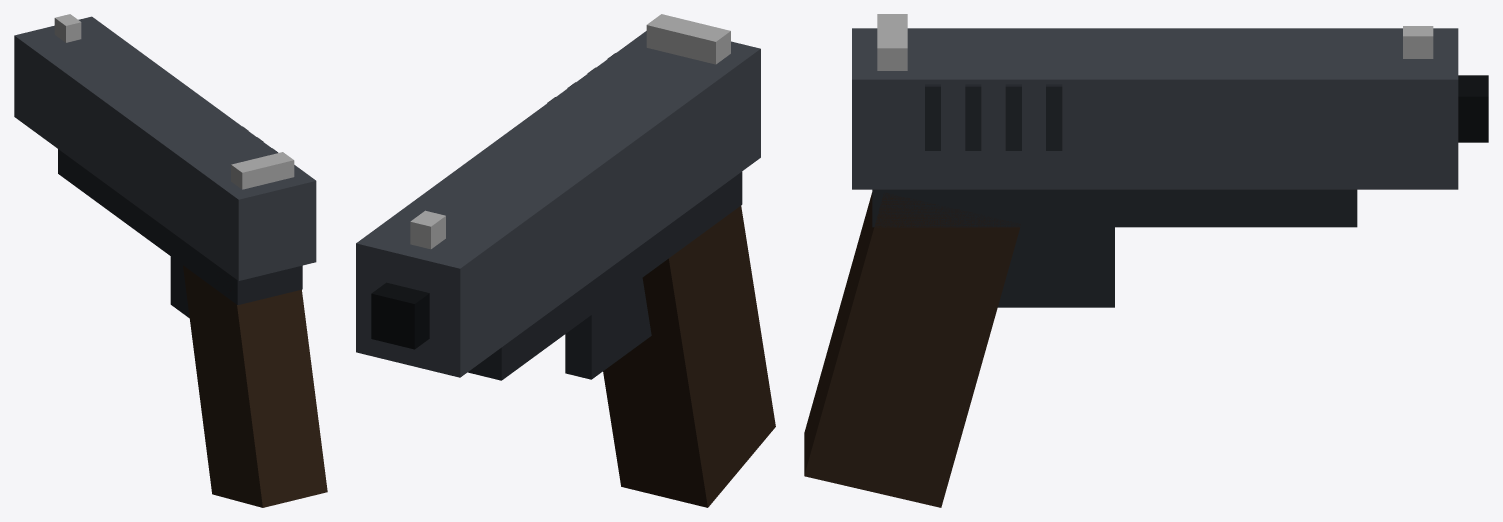
File: pistol.glb
3 renders of one model, left to right at view 1: azimuth 30°, elevation 25°; view 2: azimuth 150°, elevation 25°; view 3: azimuth 270°, elevation 25°, orthographic. The views are drawn at different scales.
Parts seen in each view (by area): view 1: Body; view 2: Body; view 3: Body.
Boxes of the visible parts, left/top/right/bottom form: Body: left=14, top=14, right=327, bottom=507; Body: left=356, top=14, right=775, bottom=507; Body: left=804, top=14, right=1488, bottom=507.
Bounding box in the file's own units: 0.063 × 0.2487 × 0.3387.
